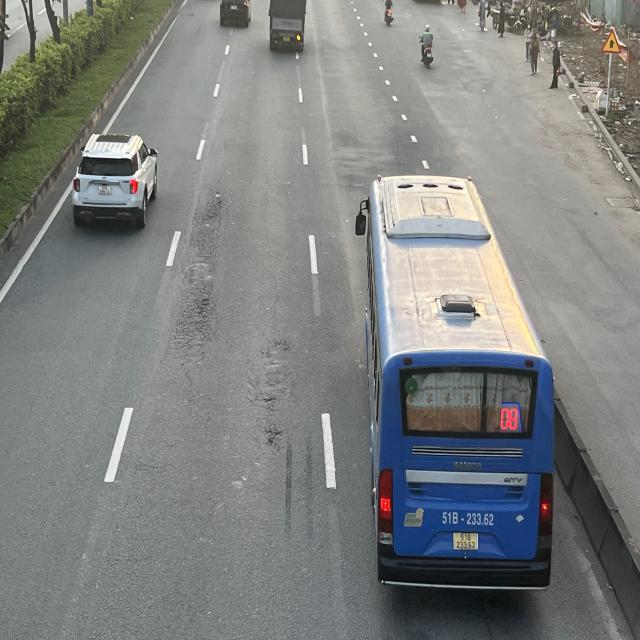car: (70, 131, 158, 228)
coach: (354, 173, 554, 599)
truck: (268, 0, 308, 50)
